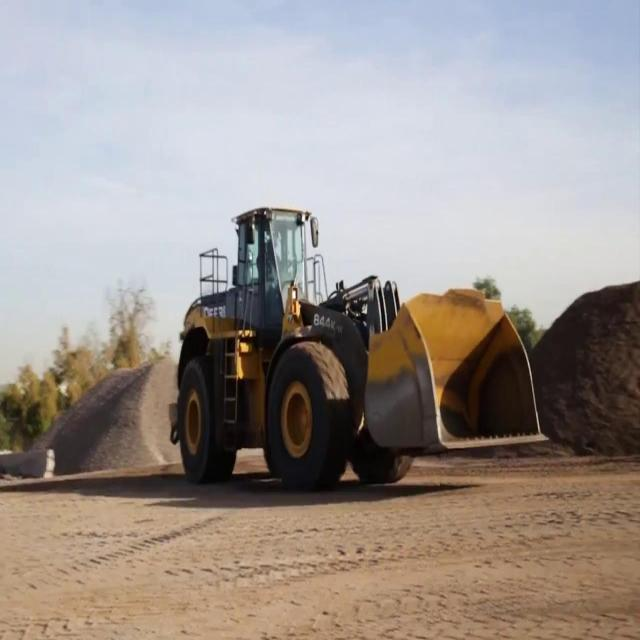buldozerpayloadergrader: (164, 198, 548, 486)
